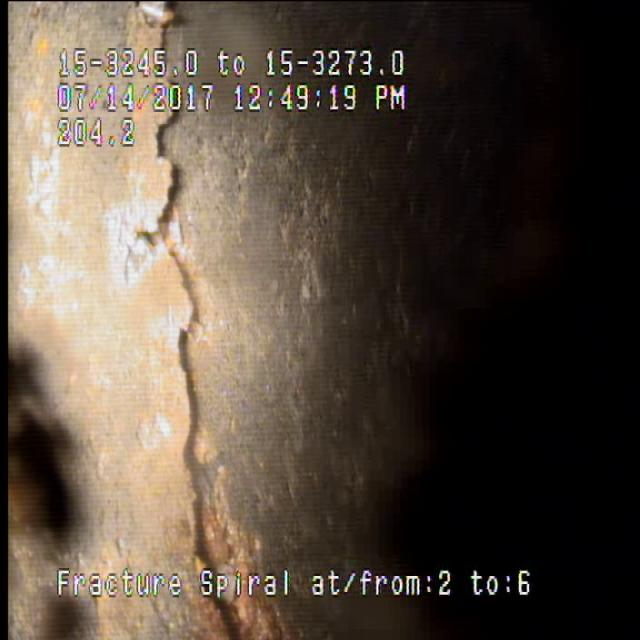Fracture: (109, 132, 257, 528)
